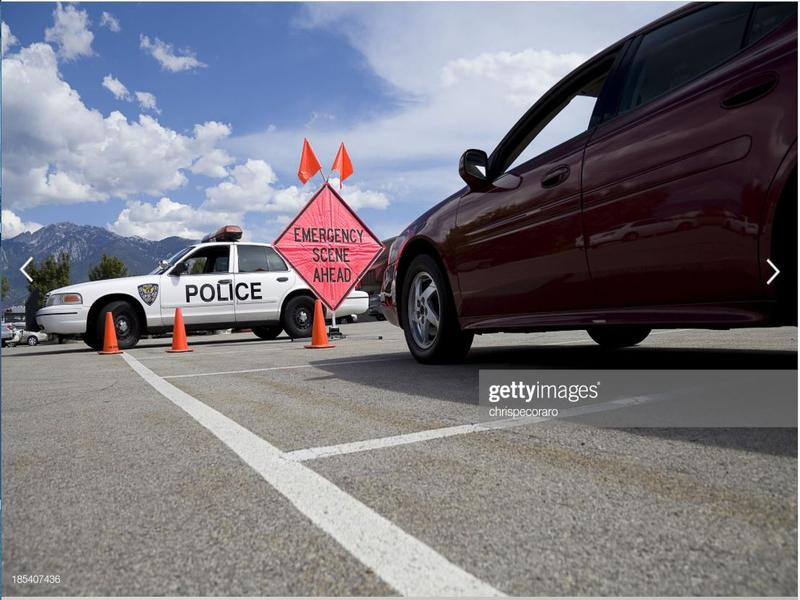Cone: (303, 300, 335, 349), (164, 307, 193, 353), (96, 311, 123, 355)
